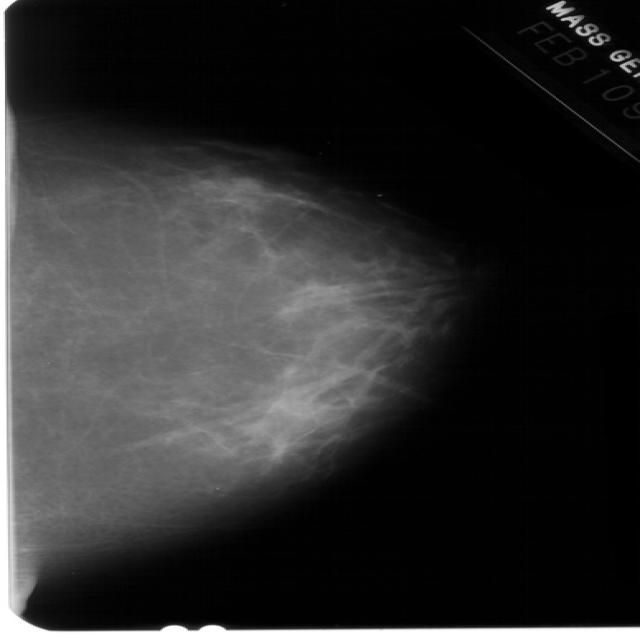tumour: (226, 173, 259, 190)
